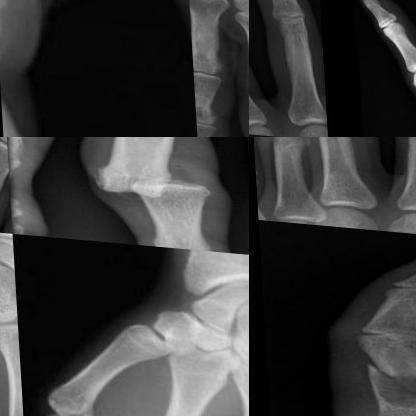fracture: (90, 142, 222, 219), (376, 357, 415, 409)
